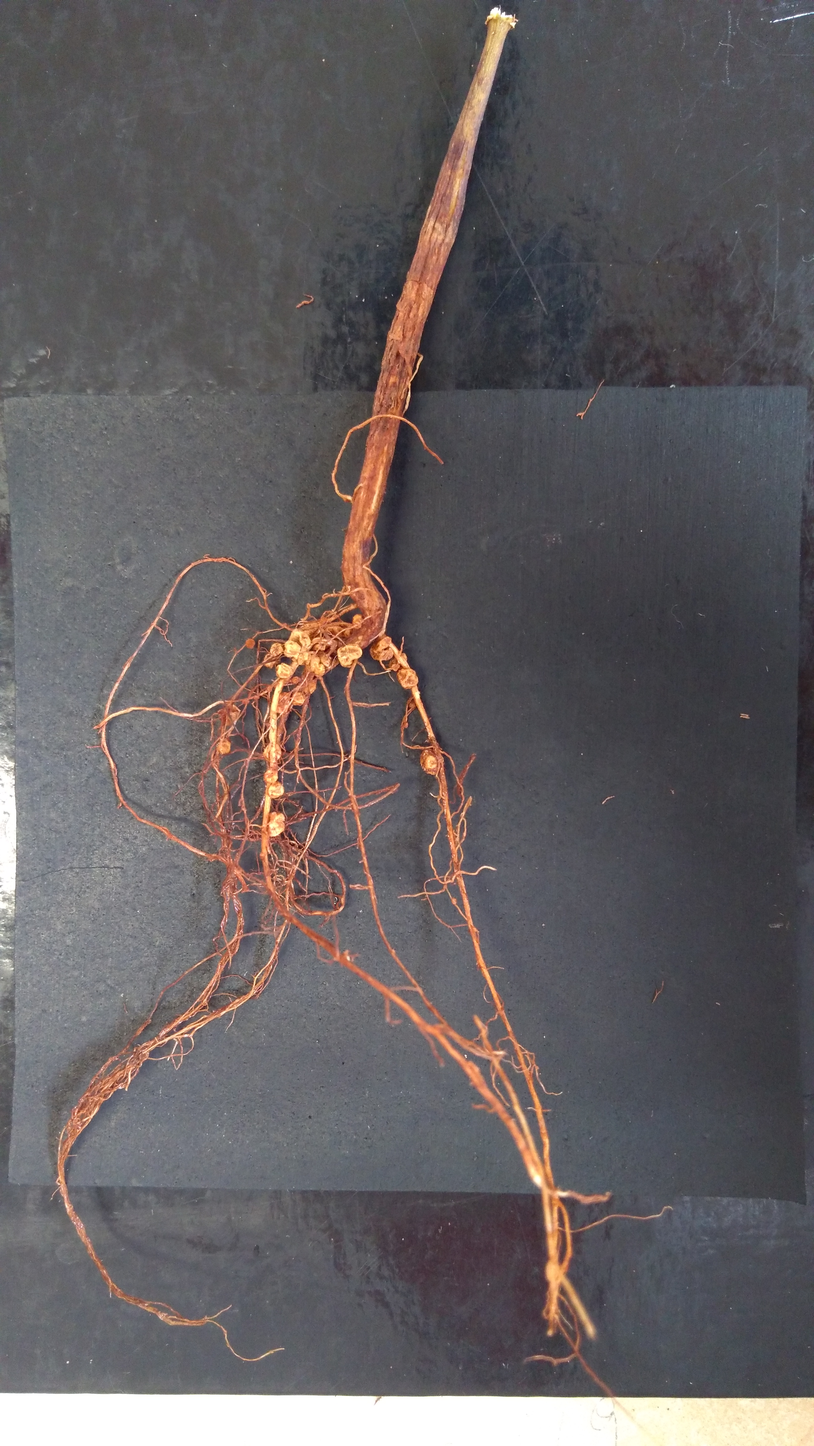nodule: (369, 636, 394, 661), (337, 643, 362, 668), (420, 748, 440, 775), (267, 812, 285, 837), (397, 668, 418, 689), (289, 628, 311, 648), (324, 626, 352, 639), (263, 742, 281, 762), (283, 640, 301, 660), (389, 653, 407, 671), (276, 692, 290, 714), (305, 651, 320, 671), (300, 623, 320, 637), (268, 781, 284, 798), (216, 737, 231, 755), (225, 709, 240, 726), (322, 610, 343, 622), (263, 769, 278, 783), (292, 691, 306, 706), (304, 679, 317, 694), (264, 652, 276, 668), (270, 642, 283, 656), (352, 613, 363, 629), (311, 642, 330, 651), (298, 652, 310, 665), (315, 663, 325, 677), (246, 638, 254, 649), (409, 698, 416, 709), (258, 852, 266, 860), (292, 676, 301, 683), (451, 896, 457, 905), (242, 698, 249, 704), (254, 695, 259, 700), (267, 686, 272, 691), (404, 722, 408, 728)
